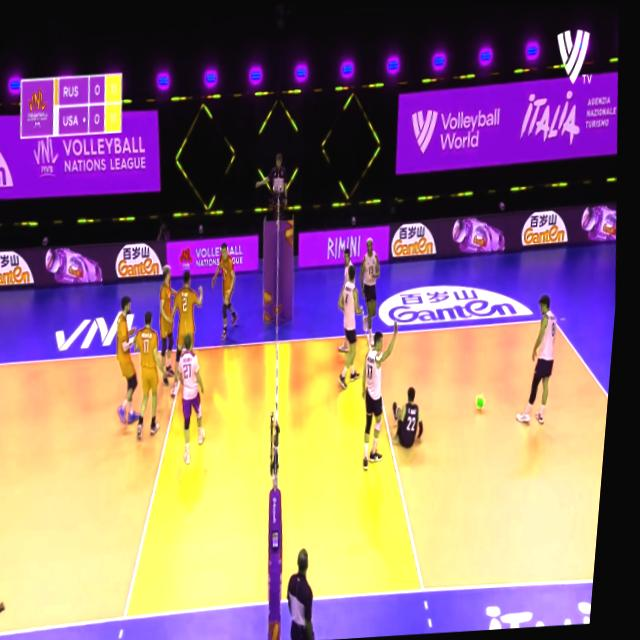player: (356, 316, 414, 465), (514, 292, 566, 423), (173, 331, 222, 463), (130, 308, 174, 437), (112, 292, 153, 428), (167, 267, 214, 380), (334, 262, 374, 388), (208, 240, 252, 341), (156, 256, 190, 381), (358, 232, 393, 349), (393, 377, 438, 455)
